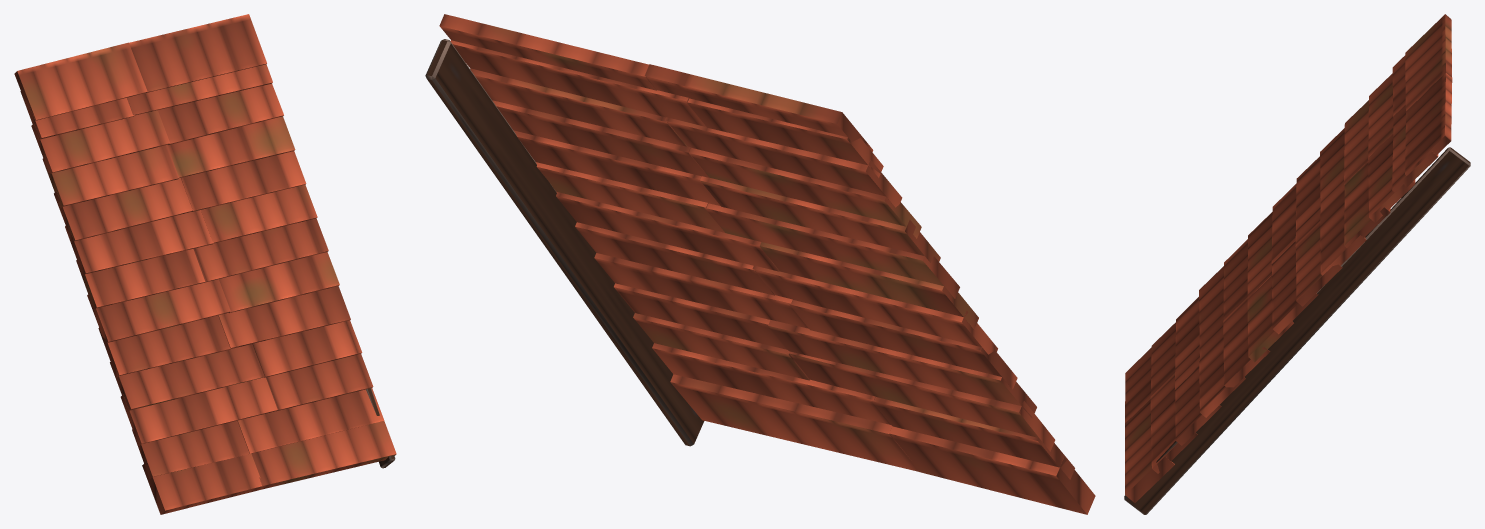
File: SM_Mod_Roof_Tile_4m_EndR.obj
The picture shows the model from 3 angles, left to right: view 1: azimuth 30°, elevation 25°; view 2: azimuth 150°, elevation 25°; view 3: azimuth 270°, elevation 25°; orthographic projection. The views are drawn at different scales.
Parts seen in each view (by area): view 1: SM_Mod_Roof_Tile_4m_EndR; view 2: SM_Mod_Roof_Tile_4m_EndR; view 3: SM_Mod_Roof_Tile_4m_EndR.
Boxes of the visible parts, box(x1,y1,x2,y2) form: SM_Mod_Roof_Tile_4m_EndR: box(14, 14, 396, 514); SM_Mod_Roof_Tile_4m_EndR: box(425, 14, 1095, 514); SM_Mod_Roof_Tile_4m_EndR: box(1124, 14, 1470, 514).
Bounding box in the file's own units: 2.37 × 3.44 × 2.84.
Materials: 1 (1 with a texture image).
